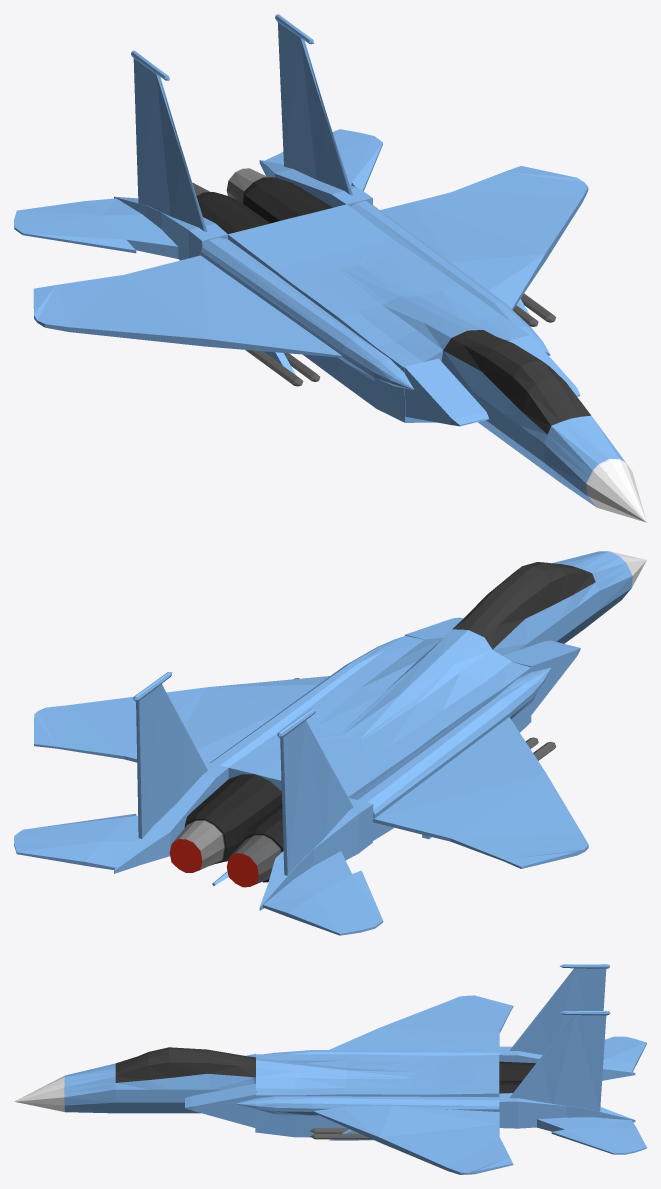
3 views of the same model, one above another, from view 1: azimuth 30°, elevation 25°; view 2: azimuth 150°, elevation 25°; view 3: azimuth 270°, elevation 25° (orthographic). The views are drawn at different scales.
Visible parts, largest first — view 1: 頭_立方体.022; view 2: 頭_立方体.022; view 3: 頭_立方体.022.
Boxes of the visible parts, x1,y1,x2,y2 form: 頭_立方体.022: (14,14,646,522); 頭_立方体.022: (14,551,646,935); 頭_立方体.022: (14,964,646,1174).
Bounding box in the file's own units: 6.17 × 2.09 × 9.14.
1 material, 1 textured.
